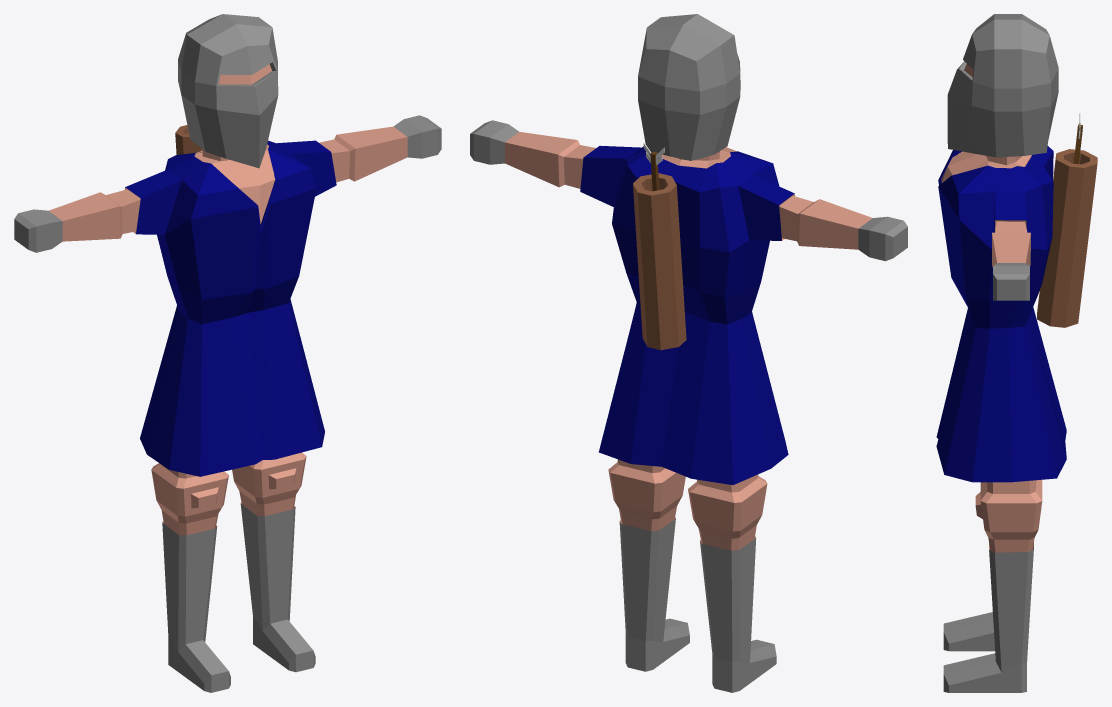
File: Archer.fbx
The picture shows the model from 3 angles, left to right: view 1: azimuth 30°, elevation 25°; view 2: azimuth 150°, elevation 25°; view 3: azimuth 270°, elevation 25°; orthographic projection. The views are drawn at different scales.
Parts seen in each view (by area): view 1: Arquero; view 2: Arquero; view 3: Arquero.
Boxes of the visible parts, <box> form: Arquero: <box>14,14,441,692</box>; Arquero: <box>470,14,907,692</box>; Arquero: <box>936,14,1097,692</box>.
Bounding box in the file's own units: 28.79 × 42.52 × 9.6.
